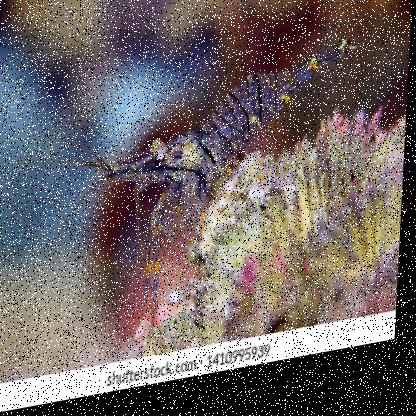shrimp: (67, 43, 364, 253)
